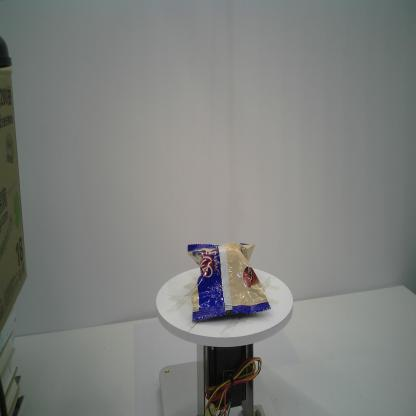Dessert: (181, 237, 272, 325)
